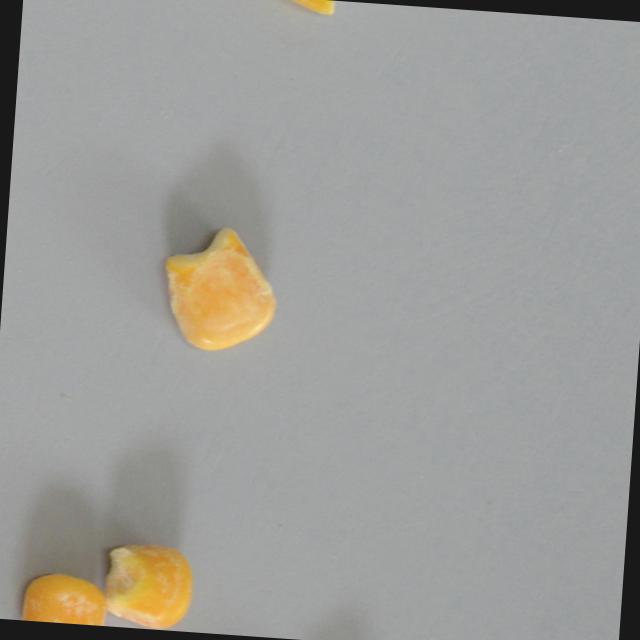no_canjicado: (246, 0, 375, 15)
pelicula: (156, 221, 282, 355), (102, 540, 196, 631), (20, 568, 107, 626)
